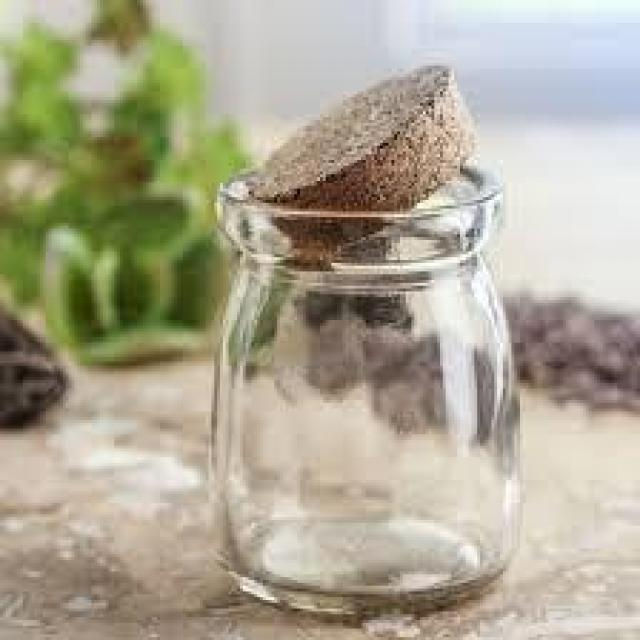non-organic waste: (207, 56, 527, 621)
